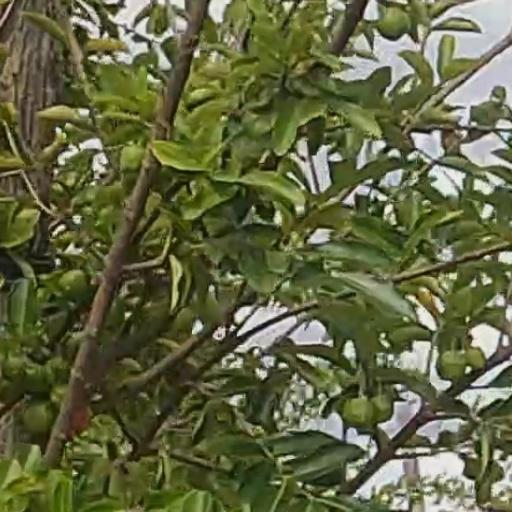acerola: (378, 7, 410, 41), (24, 401, 52, 437), (345, 399, 377, 428)
